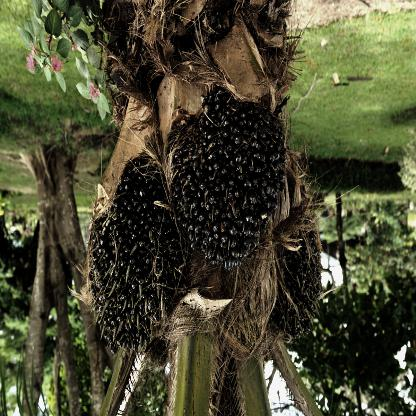palm-oil: (171, 105, 287, 271), (87, 161, 178, 358), (268, 208, 324, 346)
